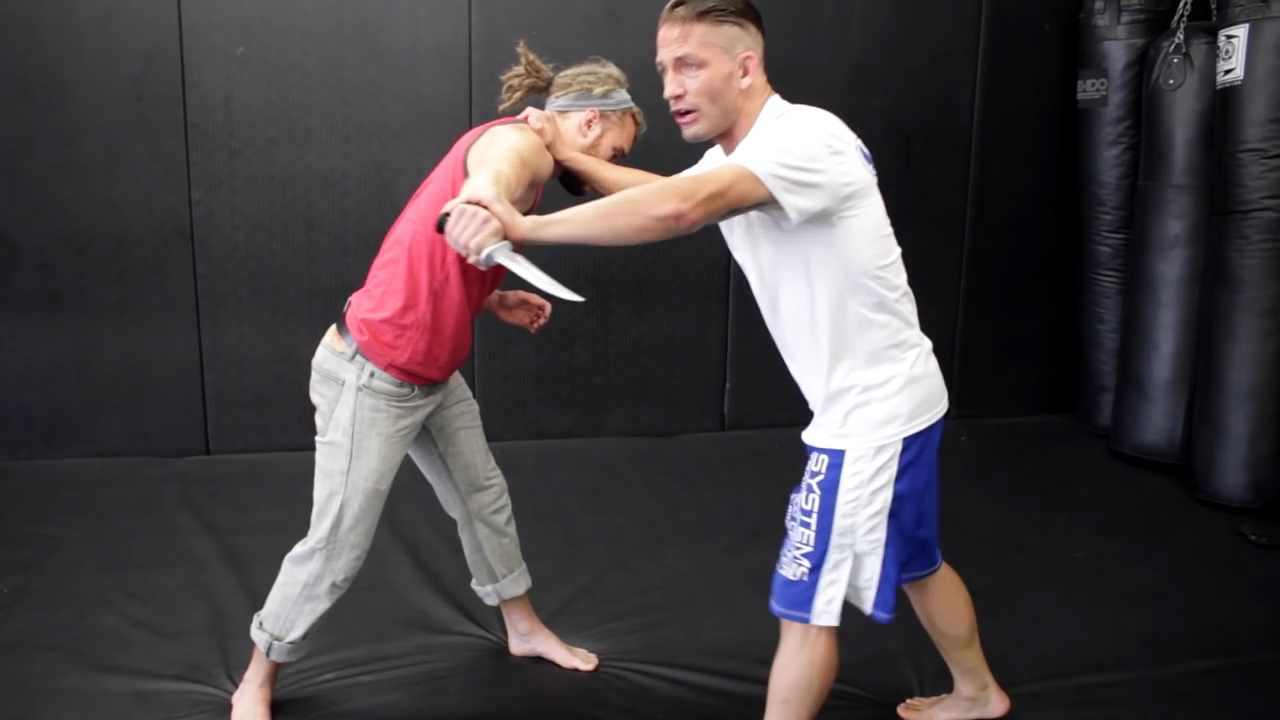knife: (425, 200, 596, 314)
